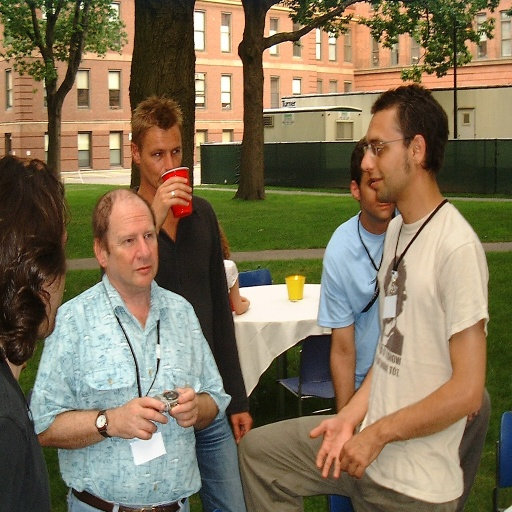hand: (94, 396, 184, 450), (308, 415, 353, 480), (337, 429, 383, 482), (164, 386, 200, 430), (230, 410, 252, 445)
